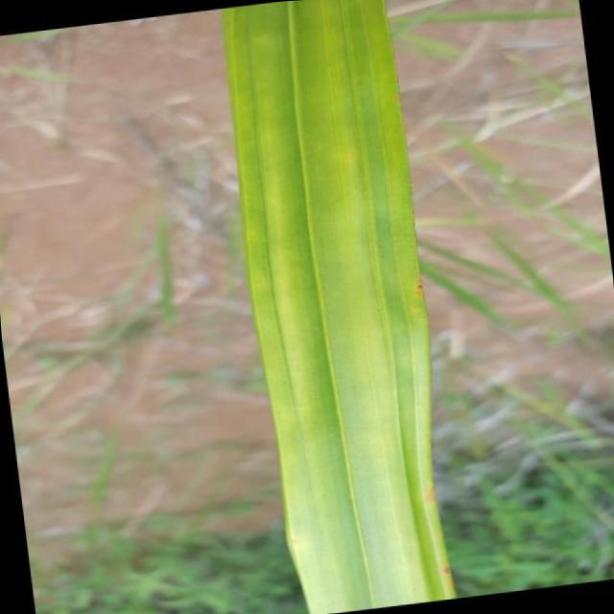nitrogen: (227, 0, 456, 610)
